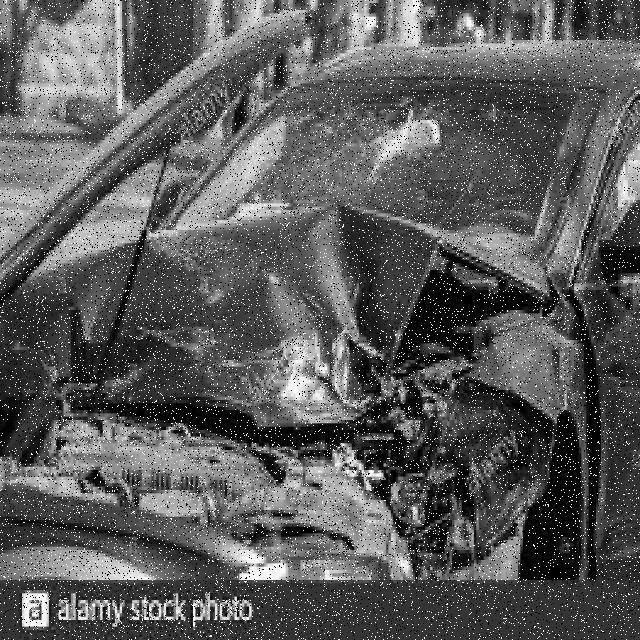Front-windscreen-damage: (147, 61, 594, 244)
bonnet-dent: (0, 216, 494, 444)
